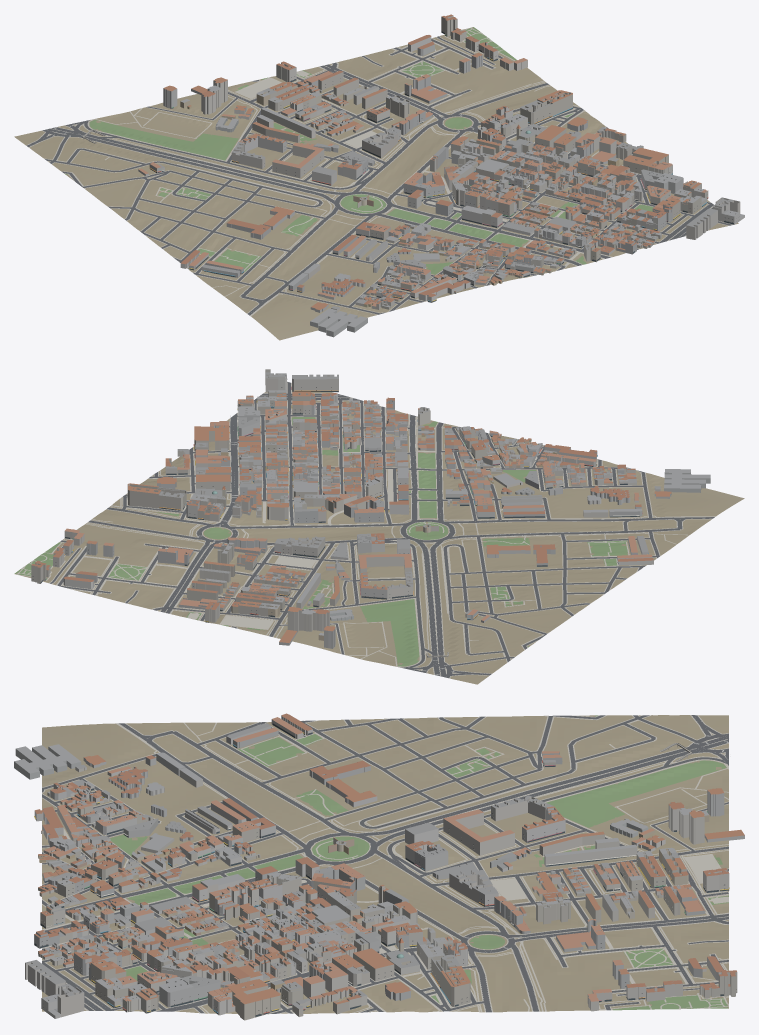
3 views of the same model, one above another, from view 1: azimuth 30°, elevation 25°; view 2: azimuth 150°, elevation 25°; view 3: azimuth 270°, elevation 25° (orthographic). The views are drawn at different scales.
Parts seen in each view (by area): view 1: Ground, Walls, Roofs, Sidewalk, Road, Park, Detail; view 2: Ground, Walls, Roofs, Road, Sidewalk, Park, Detail; view 3: Ground, Walls, Roofs, Sidewalk, Road, Park, Detail.
Part boxes in pixels (x1=…): Ground: x1=14, y1=27, x2=738, y2=340; Walls: x1=138, y1=15, x2=744, y2=337; Roofs: x1=138, y1=14, x2=744, y2=331; Sidewalk: x1=26, y1=27, x2=733, y2=316; Road: x1=26, y1=36, x2=732, y2=315; Park: x1=64, y1=27, x2=653, y2=274; Detail: x1=150, y1=31, x2=733, y2=302; Ground: x1=14, y1=391, x2=744, y2=684; Walls: x1=31, y1=369, x2=710, y2=648; Roofs: x1=31, y1=369, x2=710, y2=642; Road: x1=49, y1=382, x2=714, y2=678; Sidewalk: x1=16, y1=382, x2=715, y2=678; Park: x1=15, y1=417, x2=627, y2=666; Detail: x1=32, y1=379, x2=648, y2=622; Ground: x1=42, y1=715, x2=728, y2=1014; Walls: x1=14, y1=715, x2=744, y2=1020; Roofs: x1=14, y1=713, x2=744, y2=1015; Sidewalk: x1=42, y1=715, x2=728, y2=1014; Road: x1=42, y1=715, x2=728, y2=1013; Park: x1=110, y1=715, x2=728, y2=1010; Detail: x1=34, y1=723, x2=736, y2=1016.
Bounding box in the file's own units: 1033 × 57.74 × 1064.
